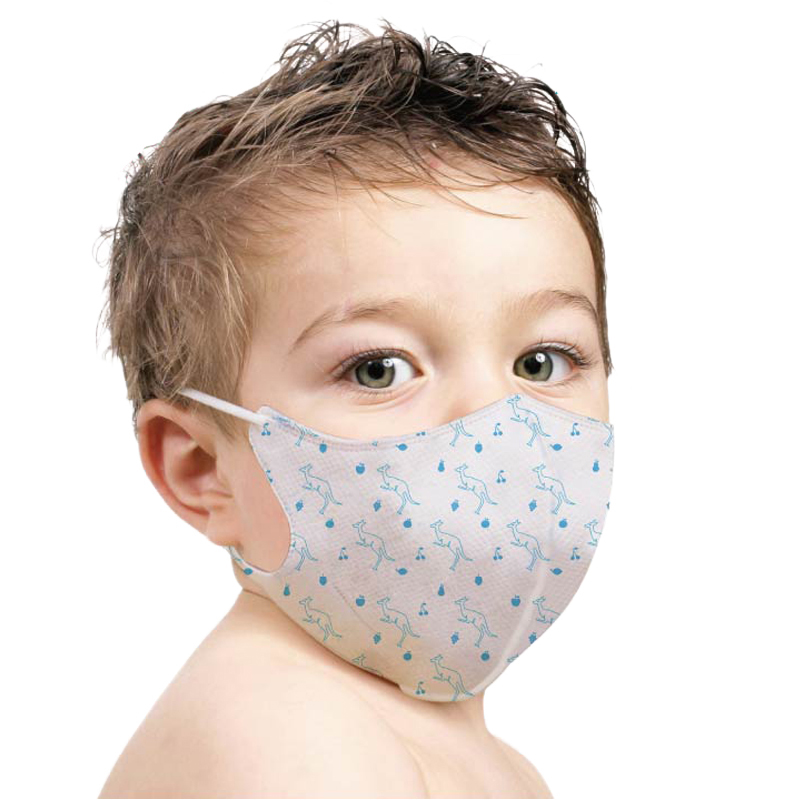face_mask: (242, 167, 614, 683)
